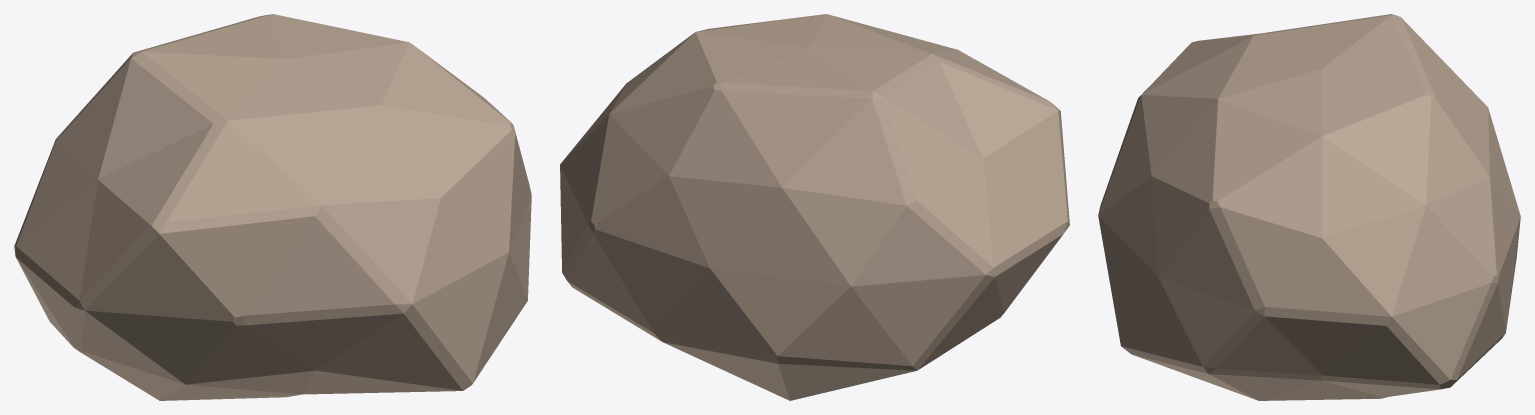
The model's file is Asteroid_S_C.fbx.
3 views of the same model, side by side, from view 1: azimuth 30°, elevation 25°; view 2: azimuth 150°, elevation 25°; view 3: azimuth 270°, elevation 25° (orthographic). The views are drawn at different scales.
Visible parts, largest first — view 1: Asteroid_S_C; view 2: Asteroid_S_C; view 3: Asteroid_S_C.
Part boxes in pixels (left/top/right/bottom): Asteroid_S_C: left=14, top=14, right=531, bottom=400; Asteroid_S_C: left=560, top=14, right=1069, bottom=400; Asteroid_S_C: left=1098, top=14, right=1520, bottom=400.
Size of the model in its own units: 198 by 136 by 165.
